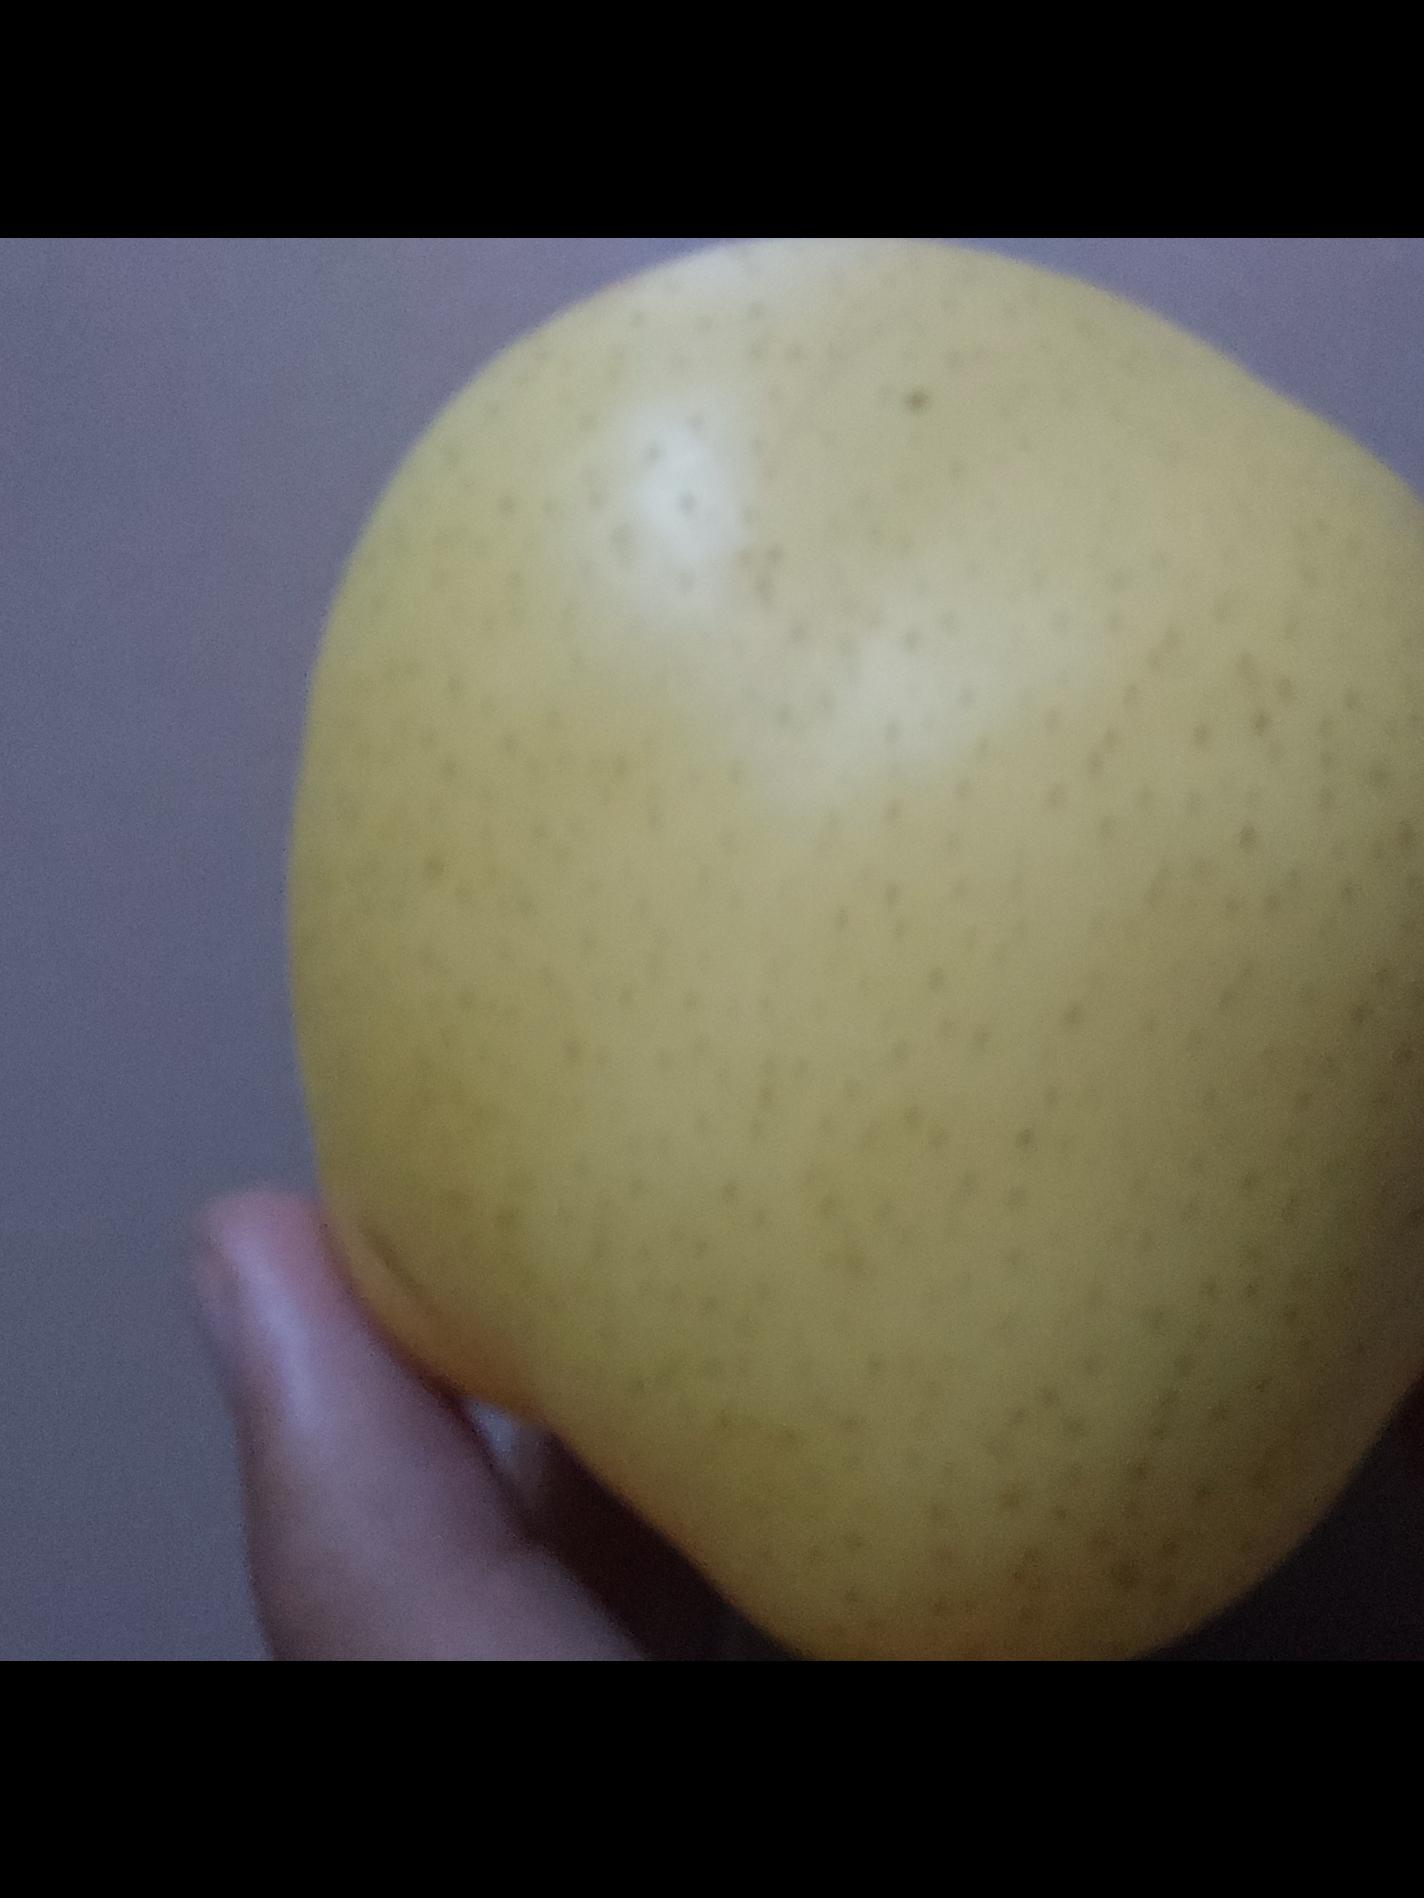Good Pear: (294, 237, 1424, 1661)
